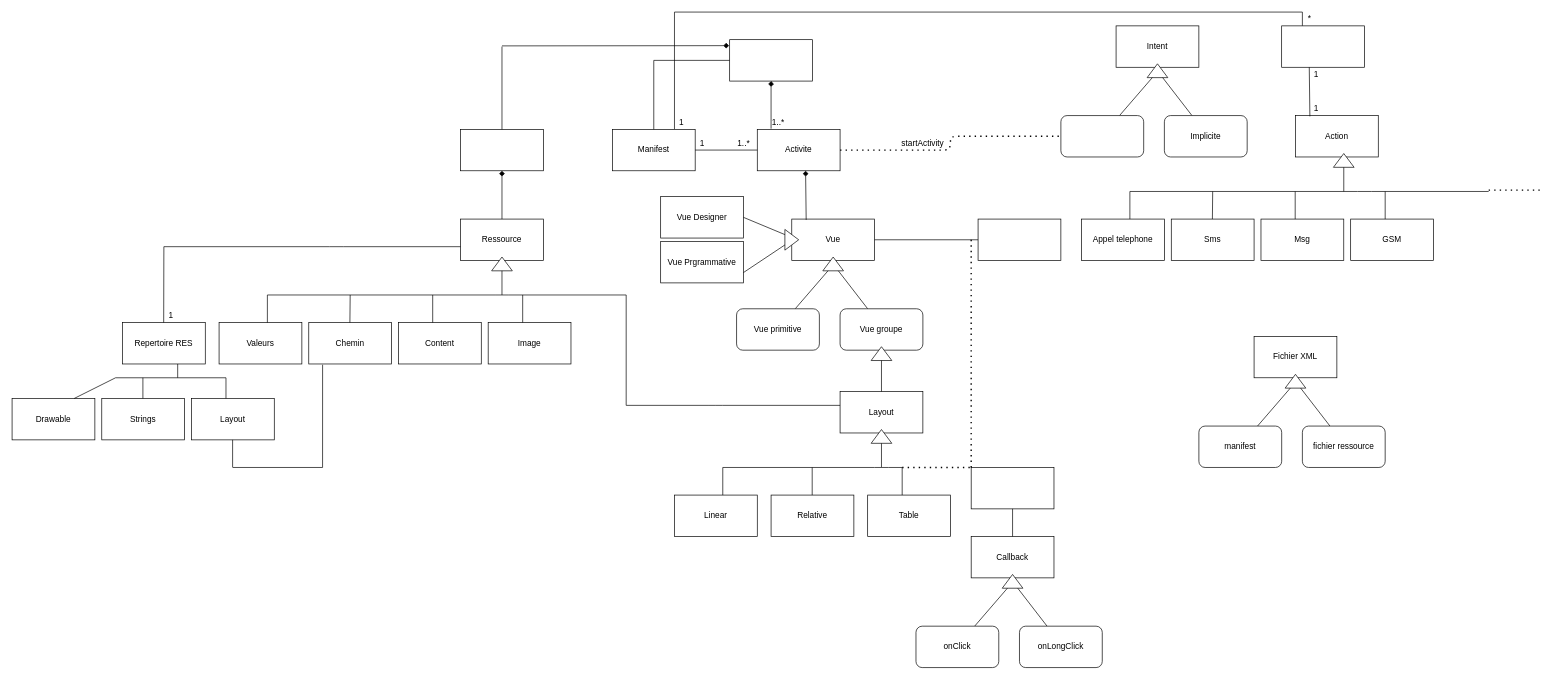
Image size: 1557x680. Some labels were removed from this diagram. The centre of each missing label's shape, as x and y in pixels:
"AppliAndroid" goes at point 770,60.
"Class R" goes at point 501,150.
"Evenement" goes at point 1019,239.
"Explicite" goes at point 1102,136.
"Listener" goes at point 1012,488.
"Permissions" goes at point 1322,46.
